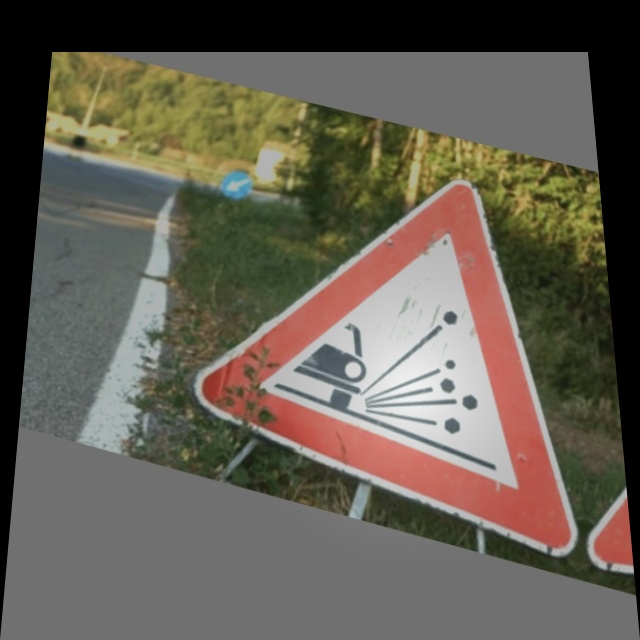Loose_Gravel: (206, 139, 629, 531)
